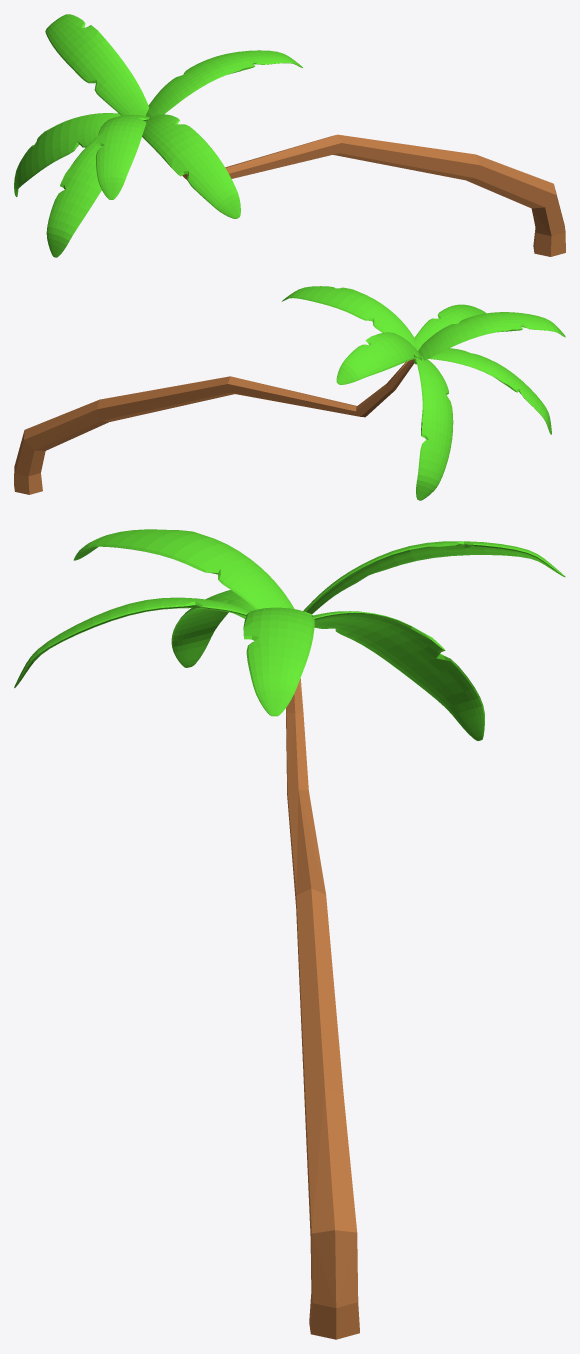
Rendered from tree 3.glb.
3 views of the same model, one above another, from view 1: azimuth 30°, elevation 25°; view 2: azimuth 150°, elevation 25°; view 3: azimuth 270°, elevation 25° (orthographic). The views are drawn at different scales.
Visible parts, largest first — view 1: leaves.003; view 2: leaves.003; view 3: leaves.003.
Part boxes in pixels (x1=…): leaves.003: x1=14, y1=14, x2=565, y2=257; leaves.003: x1=14, y1=286, x2=565, y2=500; leaves.003: x1=14, y1=529, x2=565, y2=1339.
Bounding box in the file's own units: 32.46 × 16.52 × 17.77.
